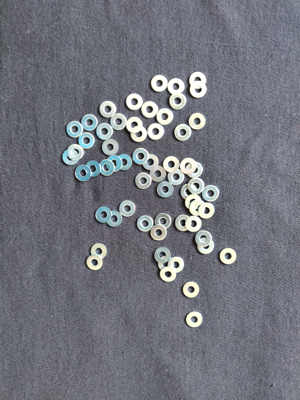circle: (218, 248, 239, 266), (157, 255, 176, 274), (188, 111, 207, 130), (175, 123, 193, 143), (94, 206, 113, 224), (106, 210, 124, 229), (196, 238, 215, 256), (189, 82, 208, 100), (169, 93, 188, 111), (168, 78, 186, 97), (150, 75, 168, 94), (89, 243, 109, 260), (119, 200, 137, 218), (168, 256, 186, 274), (202, 185, 220, 203), (132, 148, 150, 166), (126, 94, 144, 112), (81, 114, 99, 132), (153, 247, 172, 264), (195, 230, 214, 247), (135, 171, 152, 190), (188, 73, 207, 90), (158, 107, 175, 126), (111, 113, 128, 132), (86, 254, 104, 271), (186, 162, 204, 179), (75, 165, 92, 183), (142, 101, 160, 118), (131, 126, 148, 144), (126, 117, 144, 134), (100, 101, 117, 119), (97, 123, 115, 140), (102, 138, 119, 156), (85, 160, 101, 179), (61, 150, 80, 166), (175, 215, 192, 232), (189, 200, 206, 217), (157, 181, 174, 198), (116, 154, 133, 171), (148, 124, 165, 141), (187, 311, 203, 329), (183, 282, 201, 298), (150, 225, 168, 241), (199, 202, 215, 220), (184, 195, 202, 211), (181, 185, 199, 201), (167, 169, 185, 185), (143, 153, 159, 171), (99, 158, 115, 176), (187, 215, 202, 234), (160, 267, 177, 283), (155, 213, 172, 229), (136, 216, 153, 232), (189, 178, 205, 195), (163, 156, 180, 172), (150, 166, 166, 183), (106, 156, 122, 173), (79, 132, 95, 149), (68, 145, 84, 161), (67, 122, 83, 138), (181, 158, 196, 175)
